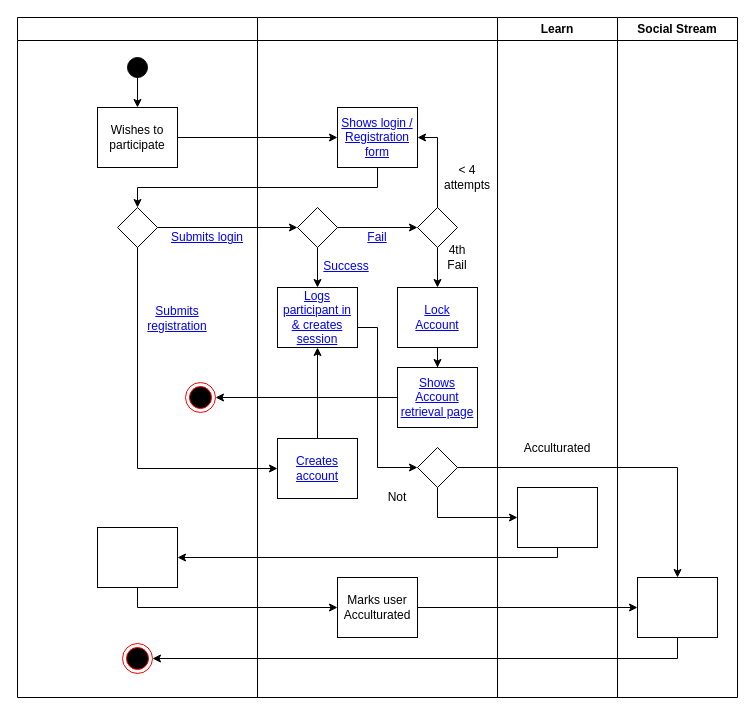
Some shapes in this 755 by 715 pixel diagram are drawn without their labels. The shapes that lost their labels are listed below. From the top down, each one's box as (x1, y1, x2, y2) in pixels, then its label:
(16, 16, 258, 698): Participant
(256, 16, 498, 698): Access Token
(516, 486, 598, 548): Shows Acculturation course
(96, 526, 178, 588): Completes Course
(636, 576, 718, 638): Shows participant feed
